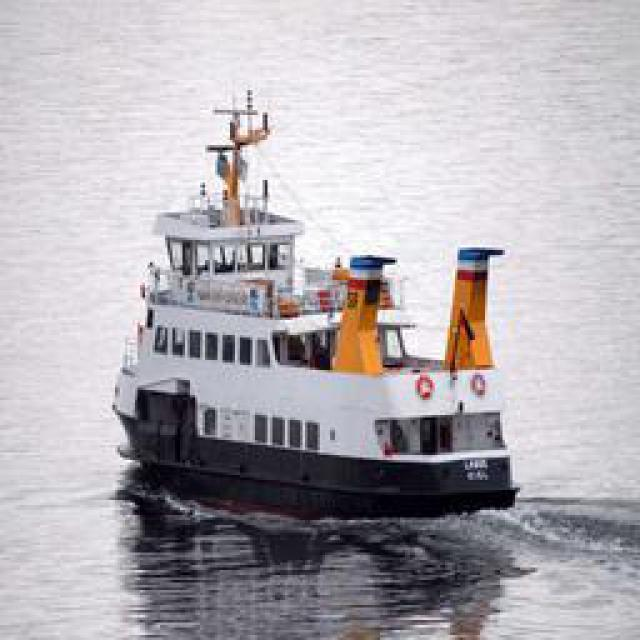Ship: (116, 82, 524, 515)
